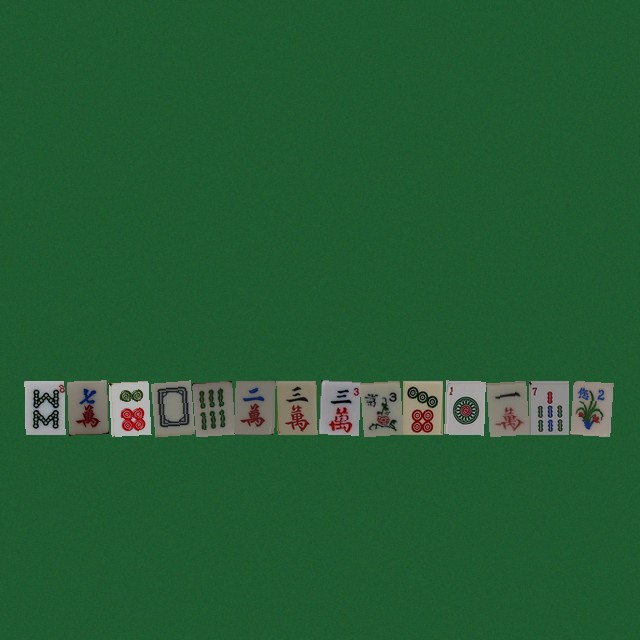tile: (24, 380, 64, 434), (66, 380, 106, 434), (108, 380, 148, 434), (150, 380, 190, 434), (192, 380, 232, 434), (234, 380, 274, 434), (276, 380, 316, 434), (318, 380, 358, 434), (360, 380, 400, 434), (402, 380, 442, 434), (444, 380, 484, 434), (486, 380, 526, 434), (528, 380, 568, 434), (570, 380, 610, 434)
